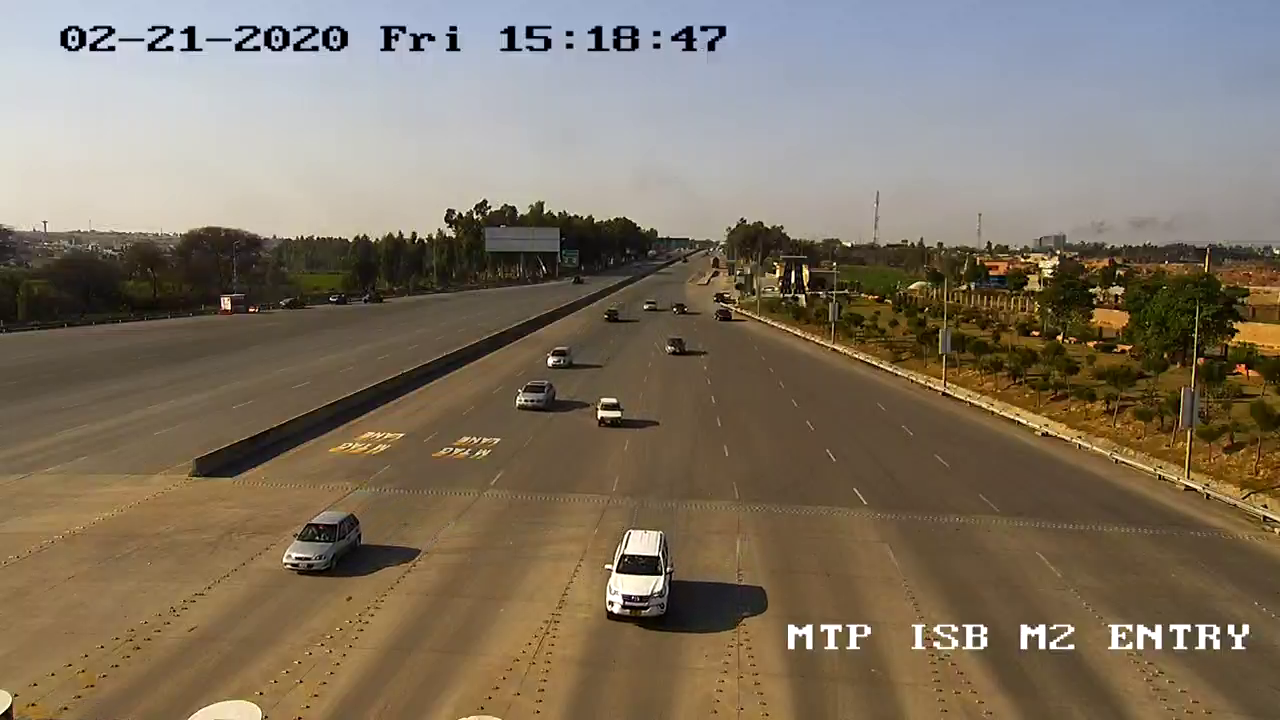f1: (596, 526, 683, 627), (274, 501, 368, 581), (512, 372, 564, 421), (590, 388, 633, 435)
